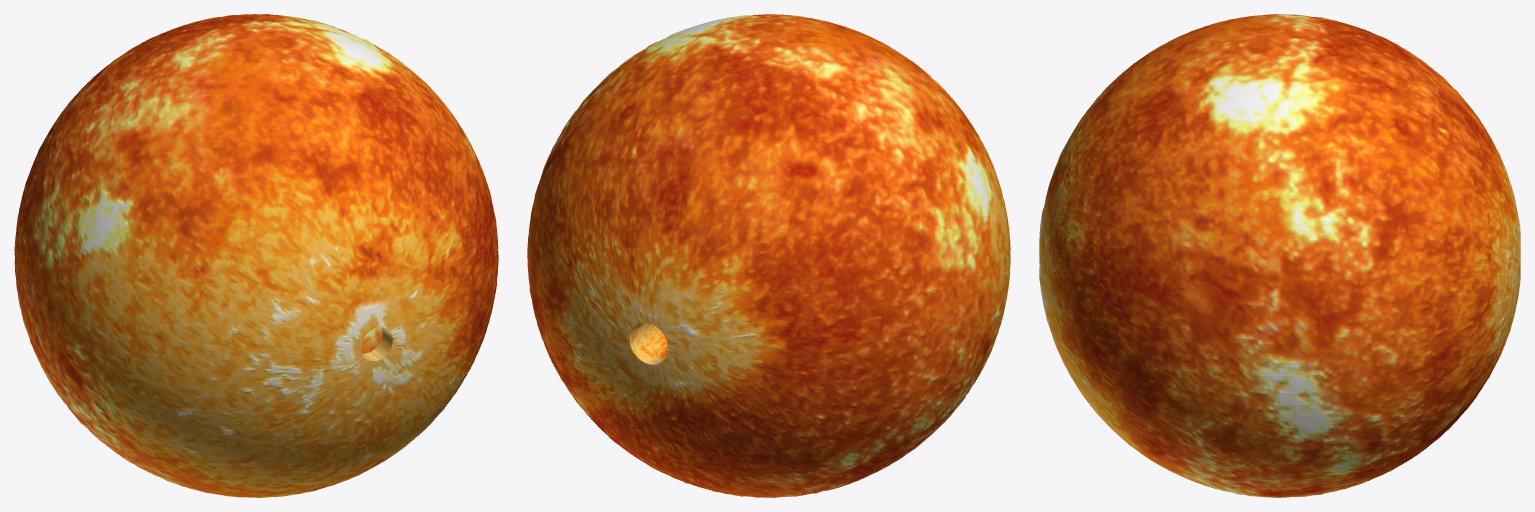
The model's file is sonne.obj.
The picture shows the model from 3 angles, left to right: view 1: azimuth 30°, elevation 25°; view 2: azimuth 150°, elevation 25°; view 3: azimuth 270°, elevation 25°; orthographic projection.
Size of the model in its own units: 66.04 by 66.07 by 65.76.
Materials: 1 (1 with a texture image).
